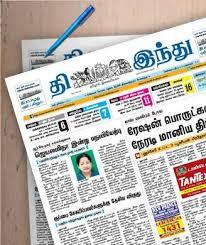Printing industry: (4, 1, 206, 245)
